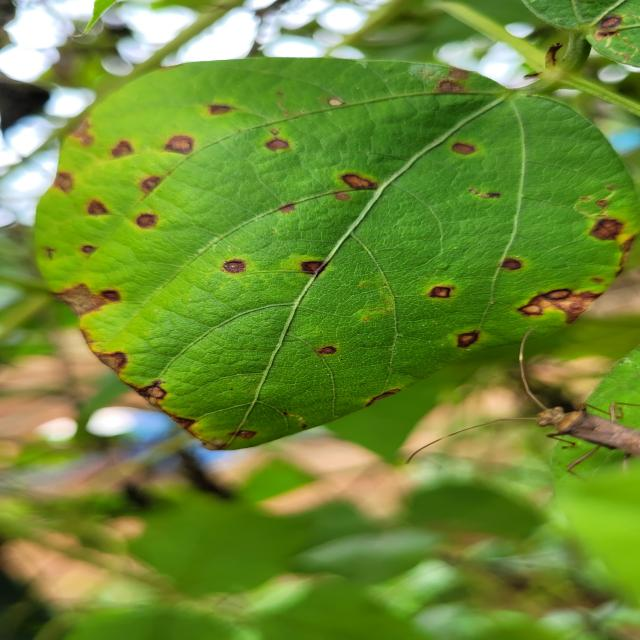Dolicos bean_cercospora leaf spot: (35, 58, 639, 450)
Dolicos bean_healthy: (114, 486, 300, 593)
